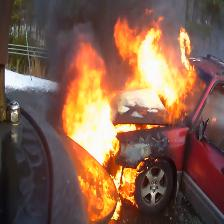fire: (64, 35, 213, 203)
smoke: (30, 1, 143, 83), (108, 1, 224, 36)
